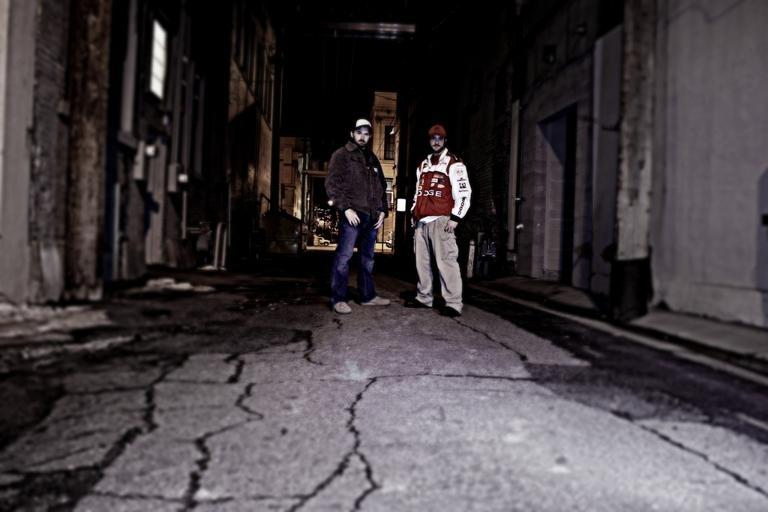Crack: (76, 322, 388, 512), (608, 412, 768, 512), (434, 312, 545, 378)
